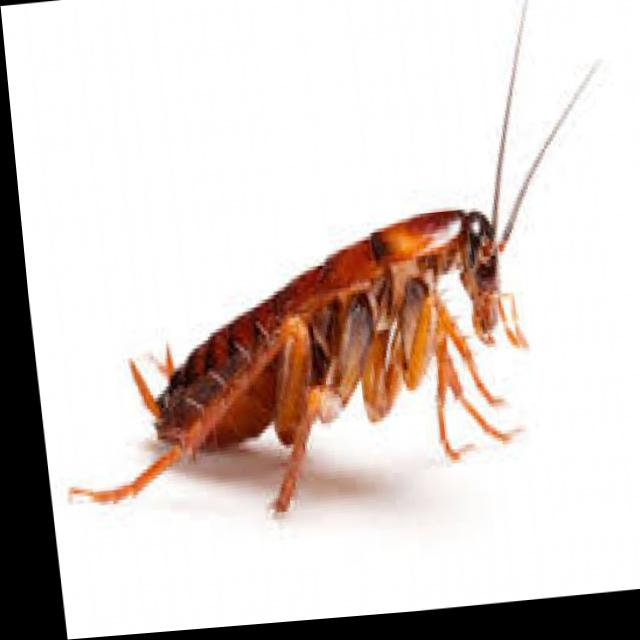Cockroach: (6, 0, 640, 565)
